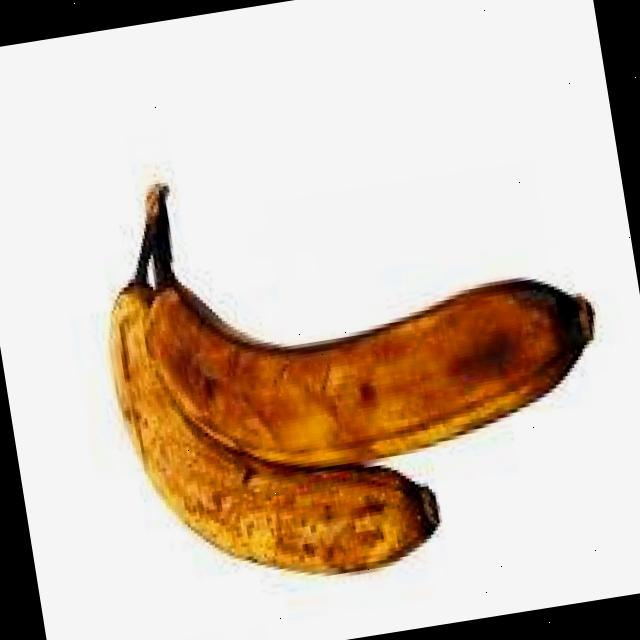Overripe: (52, 210, 464, 638), (126, 193, 624, 510)
